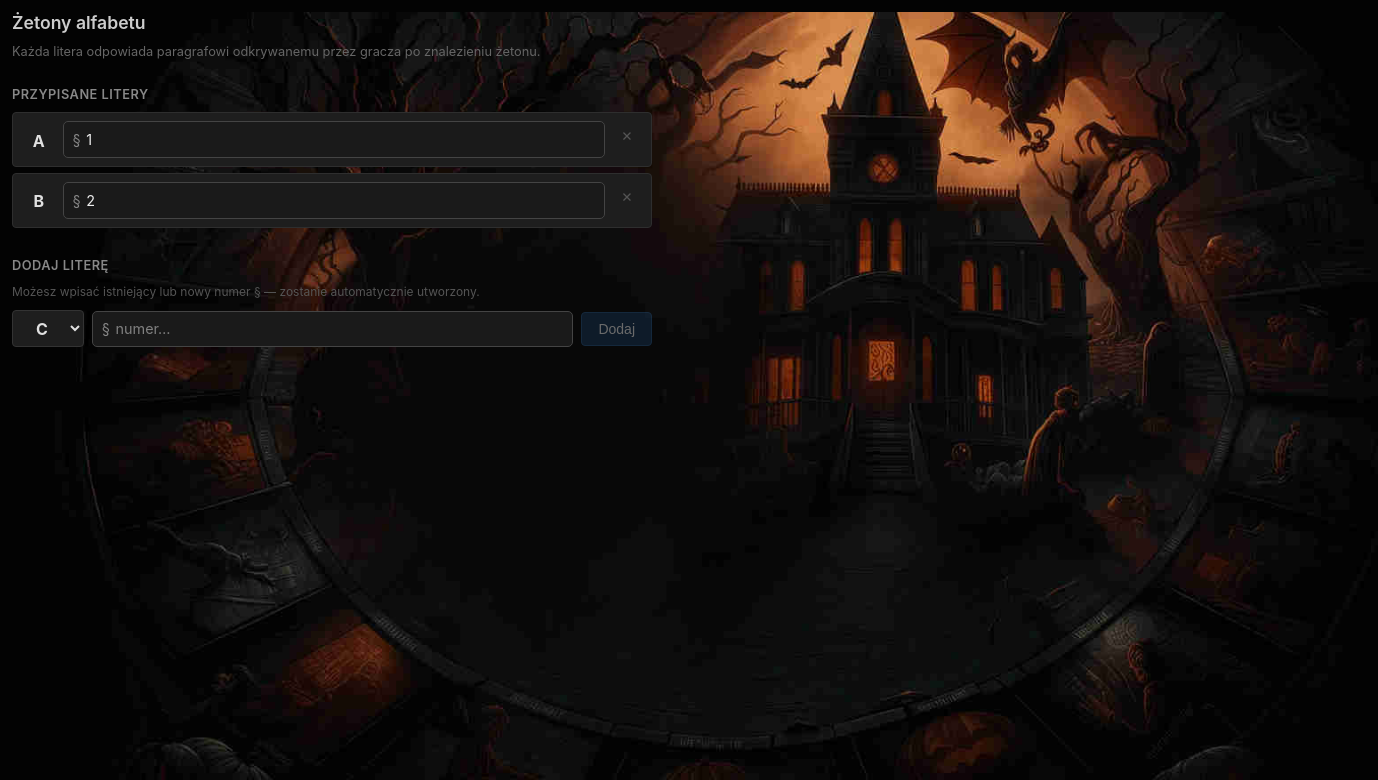
Test case: LettersEditor › shows error when editing to duplicate paragraph
Replace the text in the 1st field with "2": x=344, y=140 [85,122,604,157]
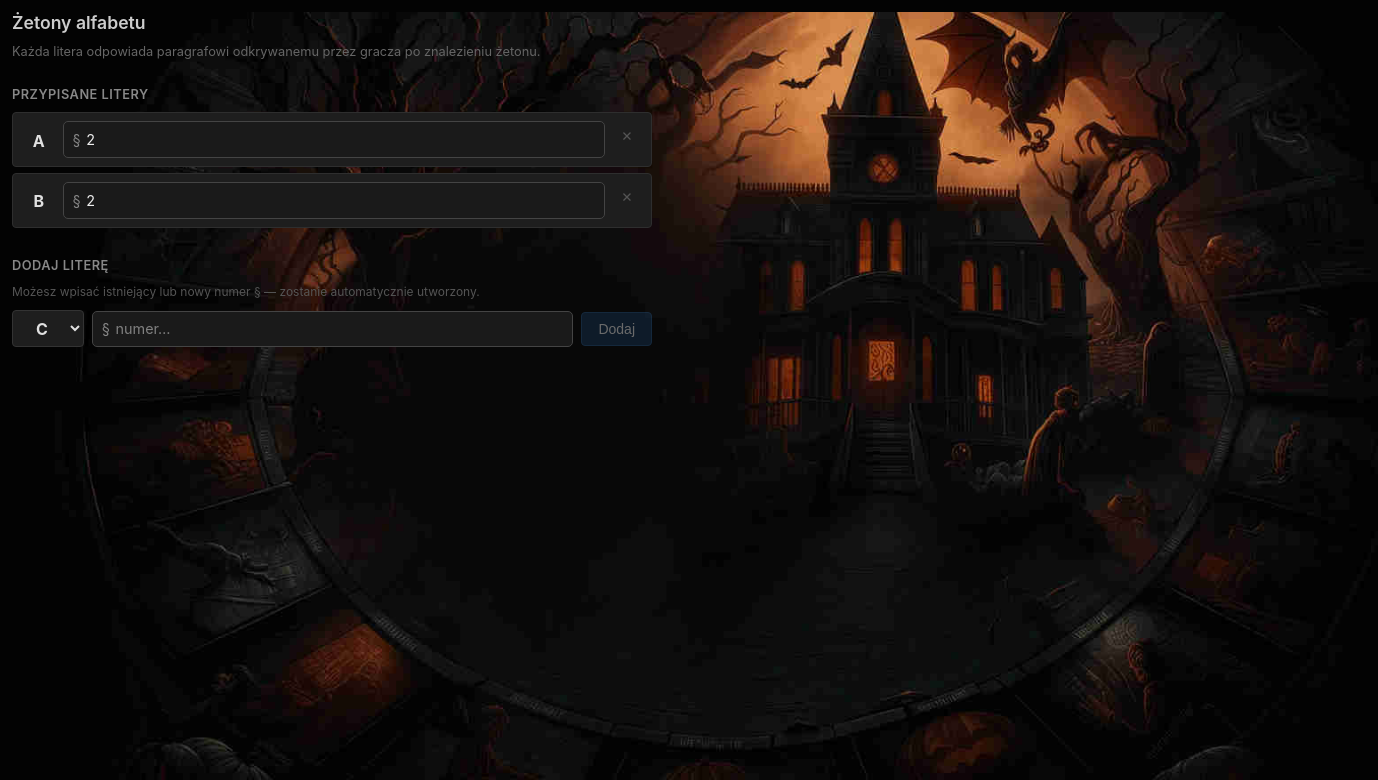
Leave the 1st field, box [85,122,604,157]
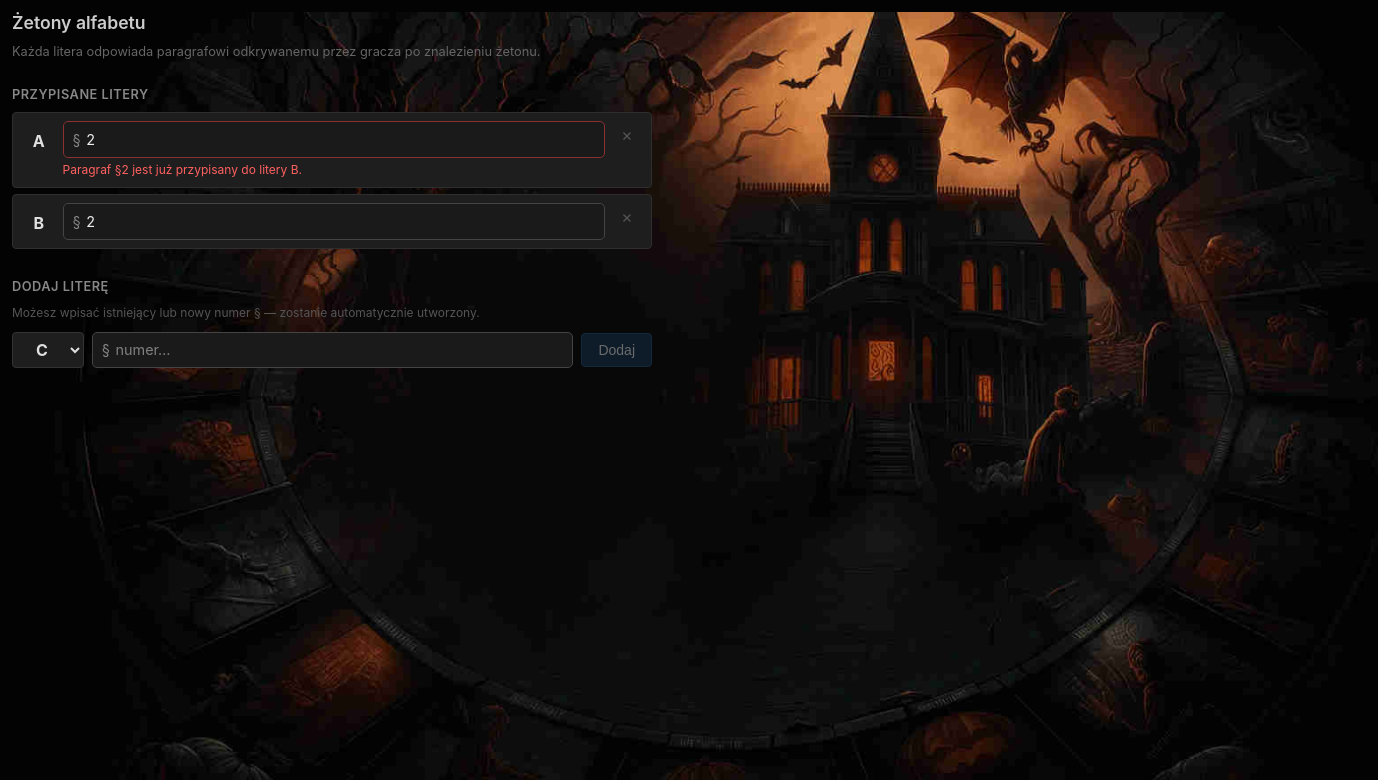
Expected: the text "Paragraf §2 jest już przypisany do litery B." is shown, [63,162,302,177]
